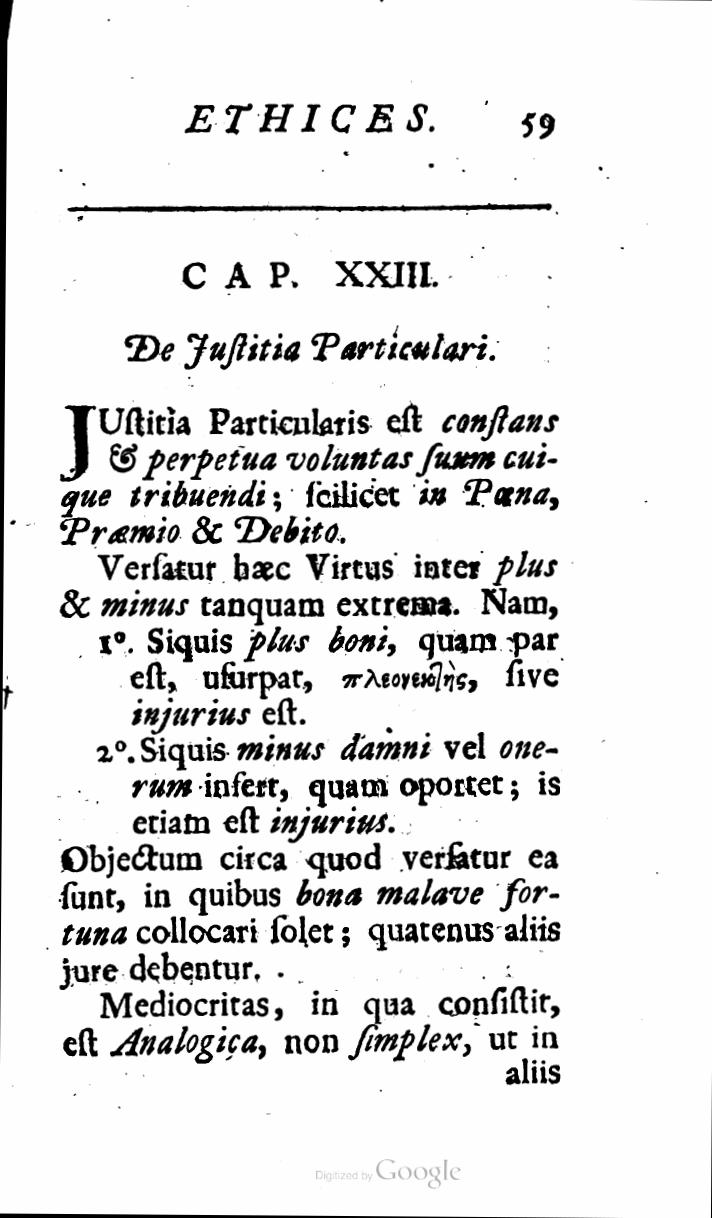catchword: (503, 1058, 565, 1086)
full_p: (55, 550, 567, 844), (58, 396, 561, 556), (52, 840, 571, 990), (125, 328, 497, 370), (182, 256, 441, 292)
header: (182, 93, 441, 140)
page_num: (518, 106, 555, 144)
top_p: (52, 991, 567, 1058)
